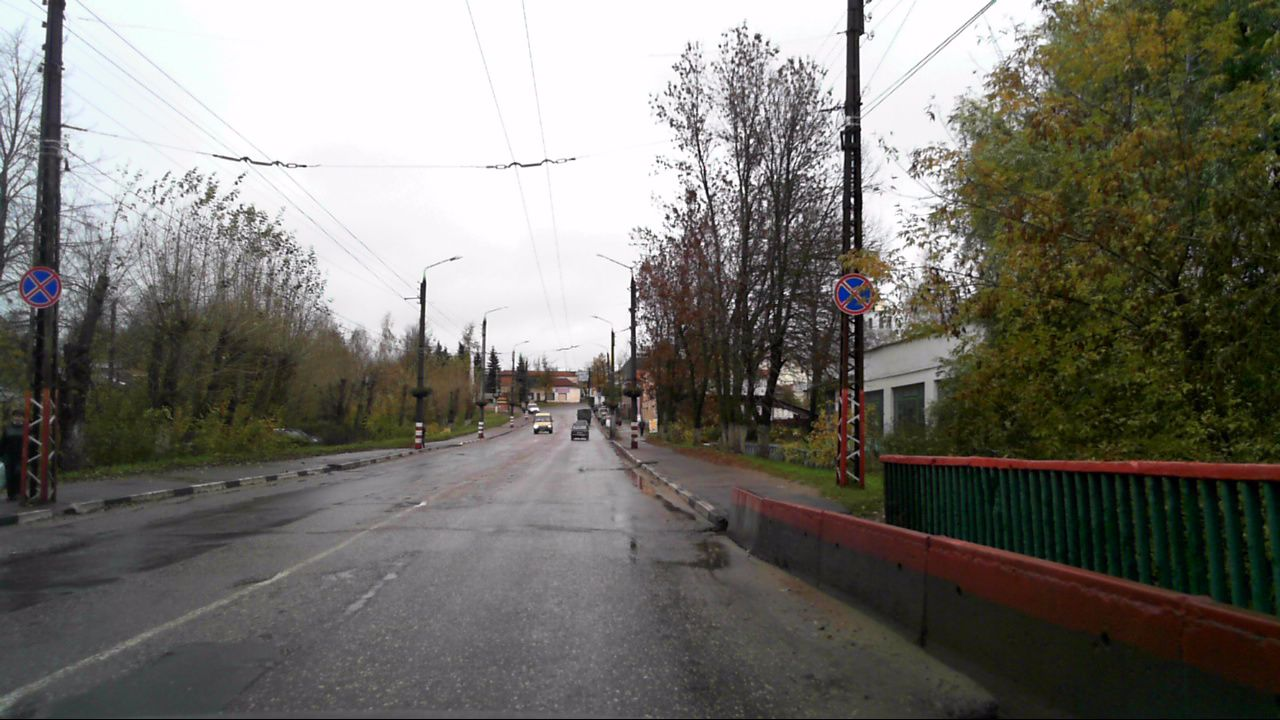No Parking: (830, 272, 875, 316)
